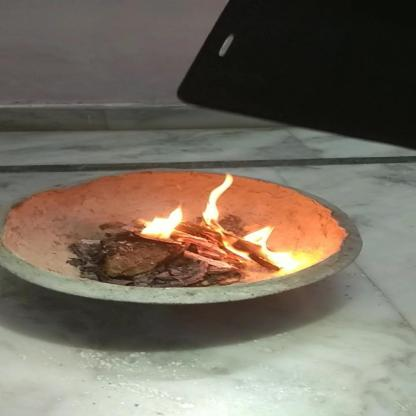fire: (140, 174, 292, 270)
